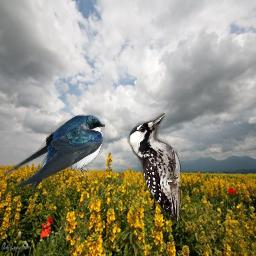Swallow: (2, 114, 105, 189)
Woodpecker: (127, 113, 181, 221)
